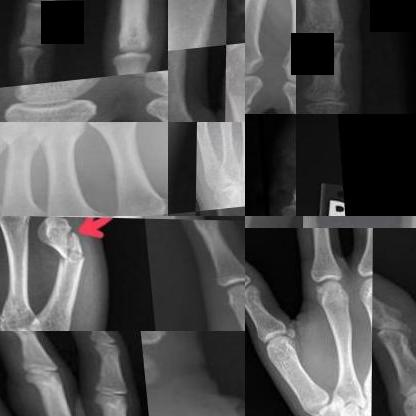fracture: (32, 216, 82, 282), (168, 15, 210, 58), (274, 77, 295, 113), (245, 85, 264, 114), (28, 0, 75, 11), (227, 311, 244, 331), (198, 122, 216, 139)
